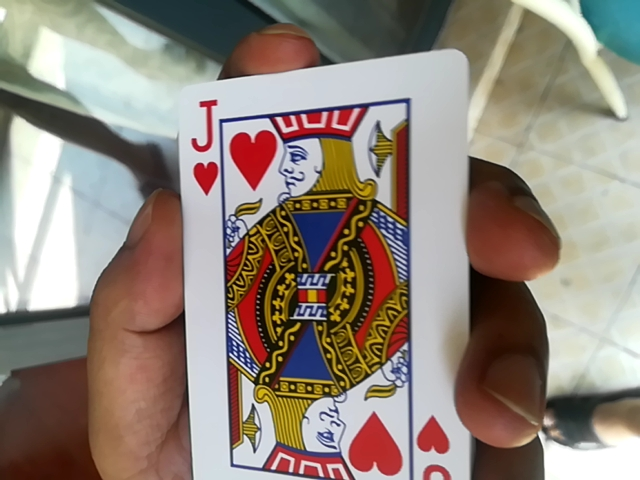hx j: (168, 49, 464, 476)
